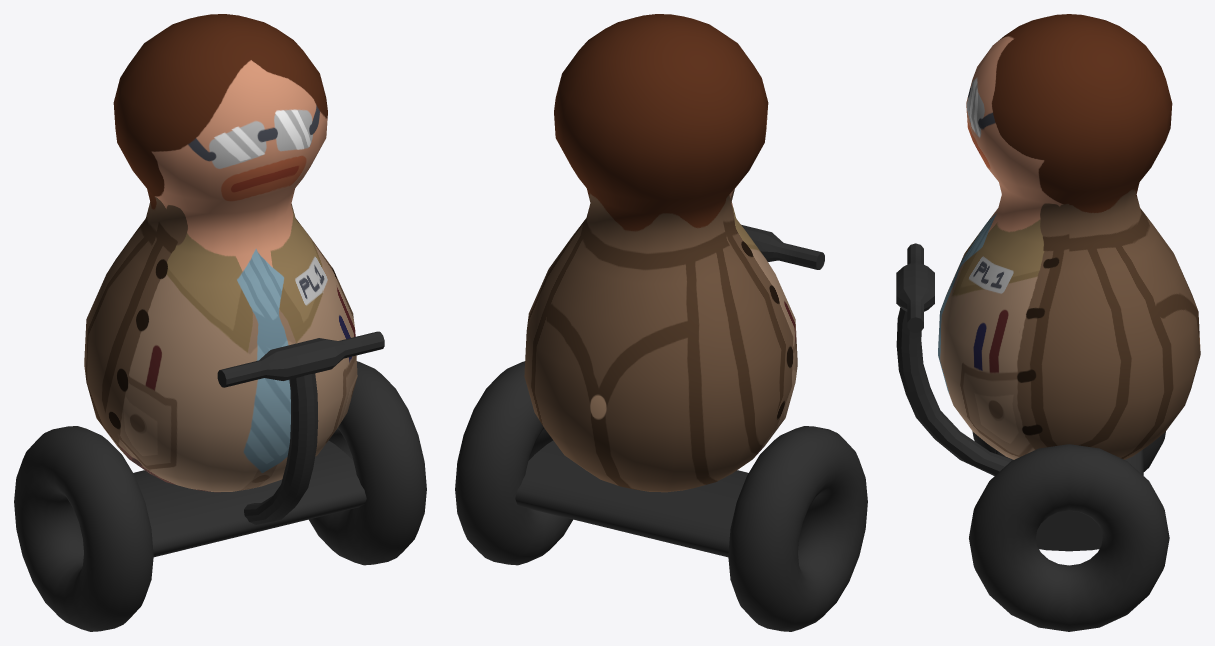
Rendered from begoneplayer1.fbx.
3 views of the same model, side by side, from view 1: azimuth 30°, elevation 25°; view 2: azimuth 150°, elevation 25°; view 3: azimuth 270°, elevation 25° (orthographic). The views are drawn at different scales.
Parts seen in each view (by area): view 1: pCylinder8; view 2: pCylinder8; view 3: pCylinder8.
Boxes of the visible parts, bbox=[...] form: pCylinder8: bbox=[14, 14, 426, 631]; pCylinder8: bbox=[455, 14, 867, 631]; pCylinder8: bbox=[896, 14, 1200, 631].
Bounding box in the file's own units: 2.73 × 4.42 × 2.26.
